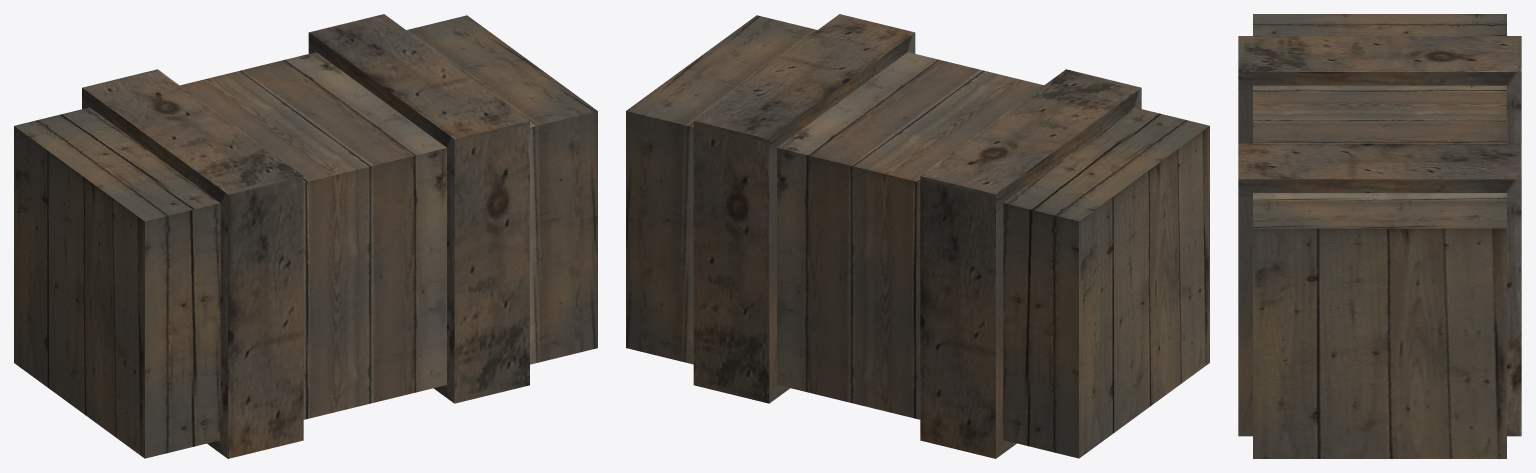
Rendered from crate01.glb.
The picture shows the model from 3 angles, left to right: view 1: azimuth 30°, elevation 25°; view 2: azimuth 150°, elevation 25°; view 3: azimuth 270°, elevation 25°; orthographic projection. The views are drawn at different scales.
Visible parts, largest first — view 1: StaticMesh; view 2: StaticMesh; view 3: StaticMesh.
Part boxes in pixels (left/top/right/bottom): StaticMesh: left=14, top=14, right=597, bottom=458; StaticMesh: left=626, top=14, right=1209, bottom=458; StaticMesh: left=1238, top=14, right=1521, bottom=458.
Bounding box in the file's own units: 0.6 × 0.3347 × 0.3345.
1 material, 1 textured.
